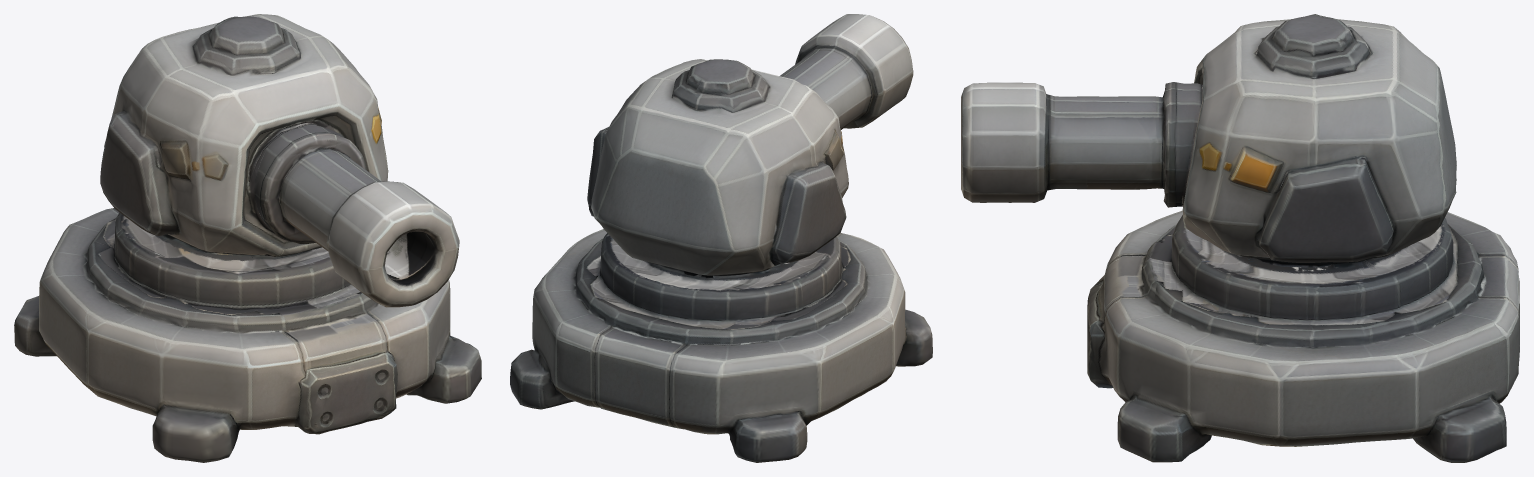
The model's file is Basic.glb.
3 renders of one model, left to right at view 1: azimuth 30°, elevation 25°; view 2: azimuth 150°, elevation 25°; view 3: azimuth 270°, elevation 25°, orthographic. The views are drawn at different scales.
Parts seen in each view (by area): view 1: texture_mapping; view 2: texture_mapping; view 3: texture_mapping.
Part boxes in pixels (<box>): texture_mapping: <box>14,14,481,462</box>; texture_mapping: <box>510,14,932,462</box>; texture_mapping: <box>961,14,1519,462</box>.
Bounding box in the file's own units: 0.7636 × 0.7029 × 0.9995.
1 material, 1 textured.
